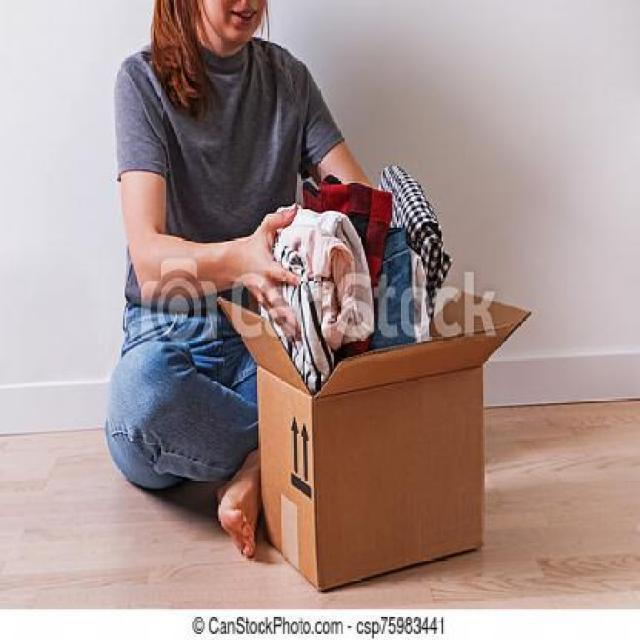box: (224, 288, 516, 590)
